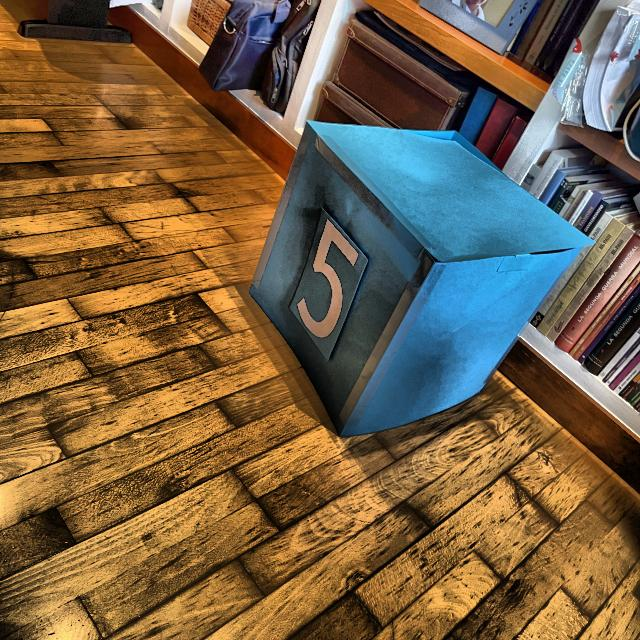blue box: (244, 119, 592, 436)
five: (294, 217, 362, 340)
